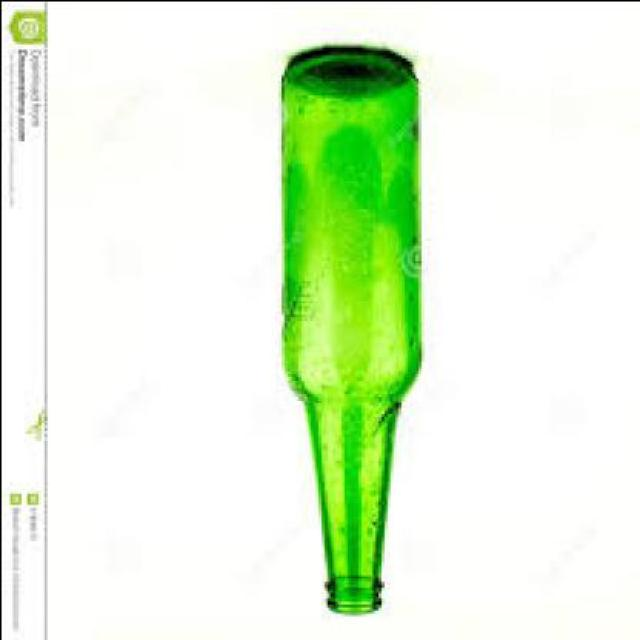GLASS: (285, 48, 421, 614)
